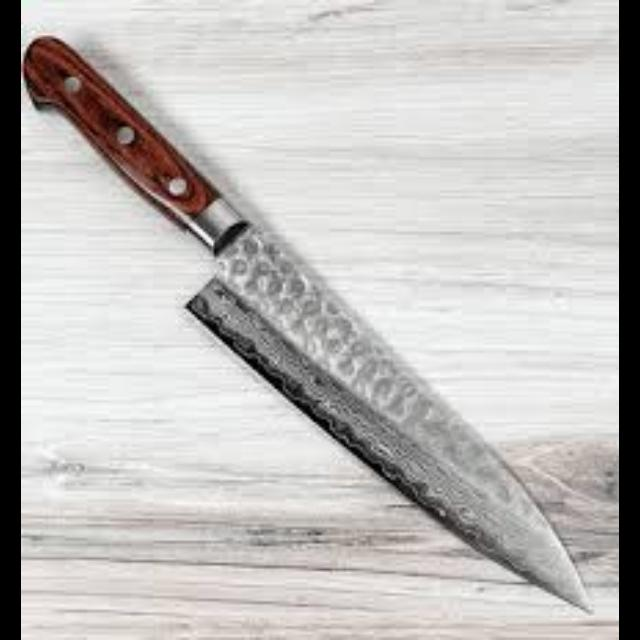knife: (22, 33, 594, 612)
